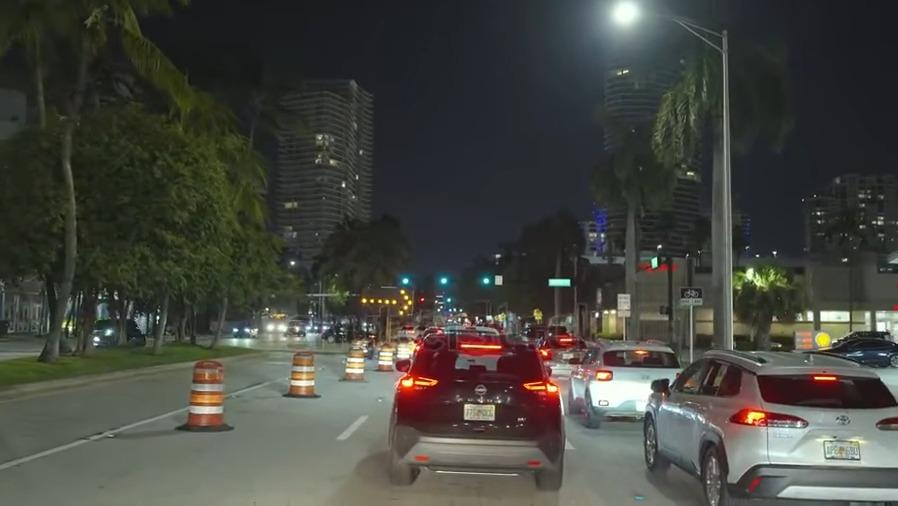arrow traffic sign: (363, 286, 417, 319)
car: (645, 348, 898, 506), (385, 335, 567, 492), (566, 338, 677, 425), (815, 339, 898, 372), (540, 333, 589, 371), (90, 329, 147, 350), (320, 323, 375, 343), (88, 316, 142, 334), (281, 319, 307, 336), (395, 323, 423, 338), (231, 321, 256, 337)
cone: (185, 359, 227, 431), (288, 350, 315, 398), (342, 344, 364, 382), (376, 343, 391, 370), (393, 341, 409, 363)
traffic light: (476, 273, 499, 290), (433, 272, 454, 290), (397, 274, 415, 290)
wheel: (697, 443, 727, 504), (641, 413, 663, 470)
